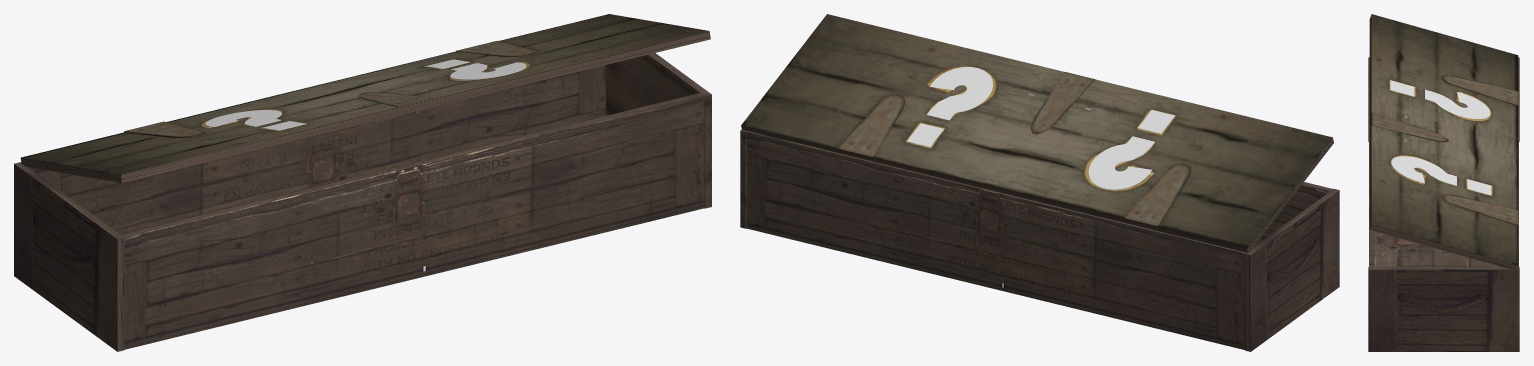
Rendered from MysterboxUpdated.fbx.
3 views of the same model, side by side, from view 1: azimuth 30°, elevation 25°; view 2: azimuth 150°, elevation 25°; view 3: azimuth 270°, elevation 25° (orthographic). The views are drawn at different scales.
Parts seen in each view (by area): view 1: box, box cover; view 2: box cover, box; view 3: box cover, box.
Boxes of the visible parts, x1,y1,x2,y2 form: box: (14,53,711,351); box cover: (20,14,710,182); box cover: (741,14,1333,252); box: (740,129,1339,351); box cover: (1369,14,1518,270); box: (1368,57,1519,351).
Size of the model in its own units: 663 by 186 by 200.
